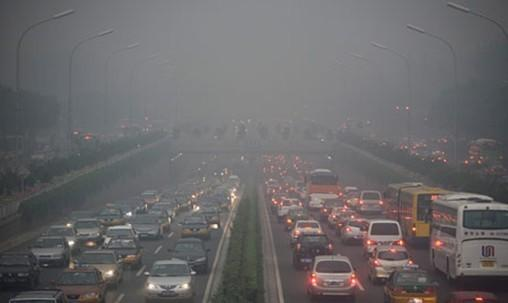bus: (423, 193, 508, 284), (396, 184, 458, 249), (383, 182, 429, 224), (304, 169, 341, 212), (79, 133, 99, 155)
car: (304, 254, 357, 302), (143, 260, 197, 303), (72, 250, 128, 291), (382, 263, 438, 303), (367, 245, 418, 285), (51, 266, 105, 303), (362, 218, 404, 260), (293, 229, 334, 271), (101, 234, 145, 271), (167, 238, 211, 274), (1, 251, 41, 288), (28, 235, 71, 268), (41, 225, 81, 255), (101, 224, 141, 252), (289, 219, 324, 248), (71, 218, 104, 247), (354, 184, 383, 215), (95, 202, 126, 231), (178, 215, 211, 242), (340, 219, 374, 245), (129, 215, 163, 241), (8, 290, 71, 303), (334, 209, 362, 236), (283, 204, 310, 232), (448, 291, 503, 303), (193, 207, 223, 229), (320, 197, 347, 221), (146, 207, 171, 232), (278, 198, 302, 224), (327, 206, 354, 229), (124, 196, 148, 216), (115, 200, 137, 221), (153, 203, 176, 222), (271, 192, 289, 214), (140, 190, 160, 208), (484, 164, 507, 178), (345, 191, 362, 207), (341, 186, 359, 200), (430, 152, 448, 165), (266, 184, 282, 198), (464, 156, 482, 168), (264, 178, 279, 192), (228, 175, 241, 189)
